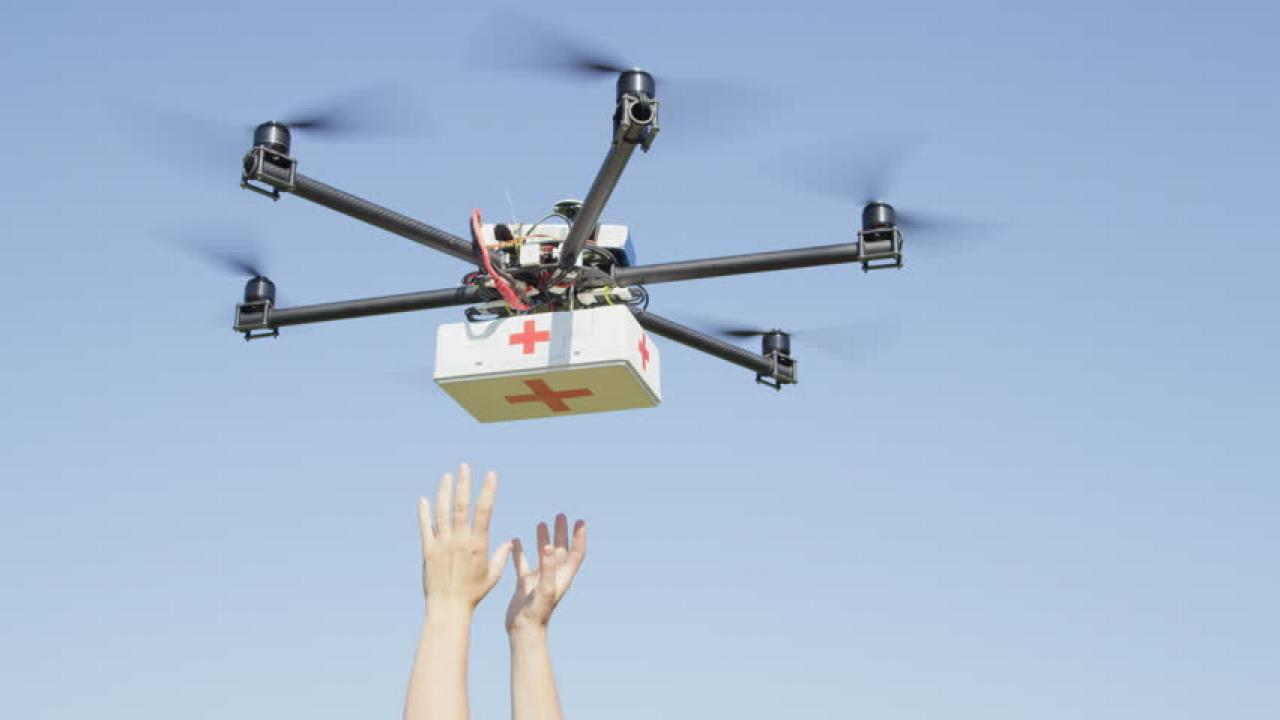Drone: (117, 12, 1038, 395)
